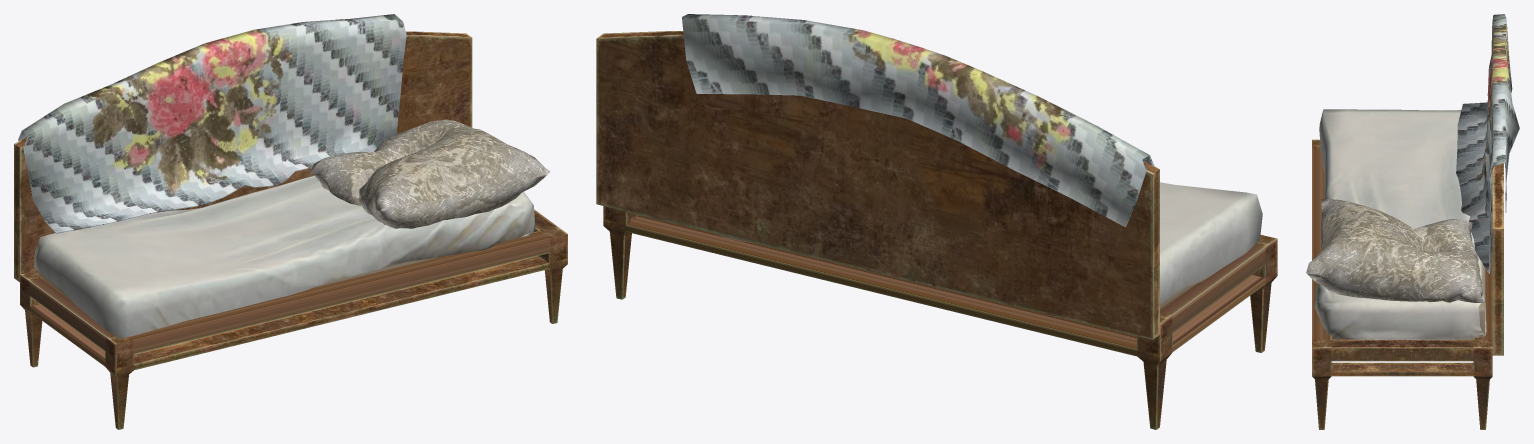
Rendered from vintage_day_bed.glb.
The picture shows the model from 3 angles, left to right: view 1: azimuth 30°, elevation 25°; view 2: azimuth 150°, elevation 25°; view 3: azimuth 270°, elevation 25°; orthographic projection. The views are drawn at different scales.
Parts seen in each view (by area): view 1: vintage_day_bed; view 2: vintage_day_bed; view 3: vintage_day_bed.
Boxes of the visible parts, x1,y1,x2,y2 form: vintage_day_bed: (14,14,567,429); vintage_day_bed: (596,14,1277,429); vintage_day_bed: (1306,14,1519,429).
Bounding box in the file's own units: 1.97 × 1.13 × 0.8547.
1 material, 1 textured.
